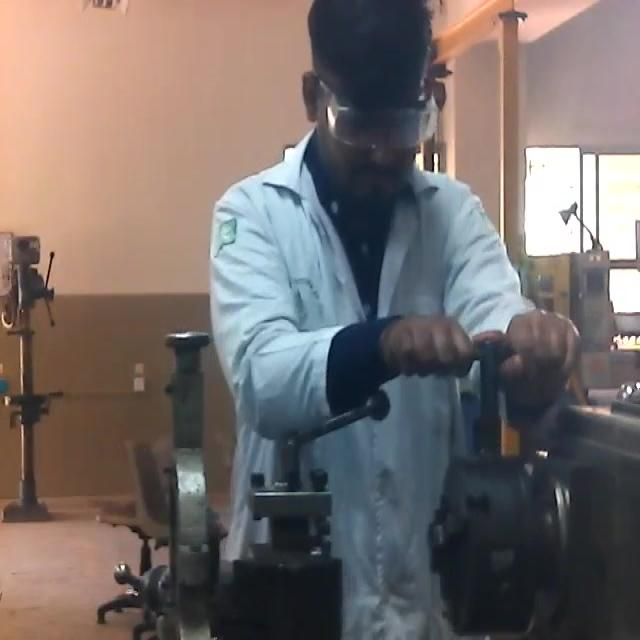googles: (324, 88, 434, 154)
labcoat: (207, 128, 533, 640)
